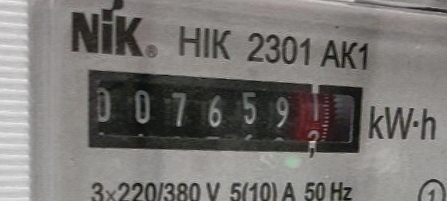0: (129, 86, 154, 128), (90, 84, 114, 126)
1: (306, 92, 325, 126)
5: (238, 89, 260, 128)
6: (203, 91, 226, 131)
7: (168, 90, 189, 130)
9: (273, 94, 291, 132)
screen: (76, 53, 373, 181)
